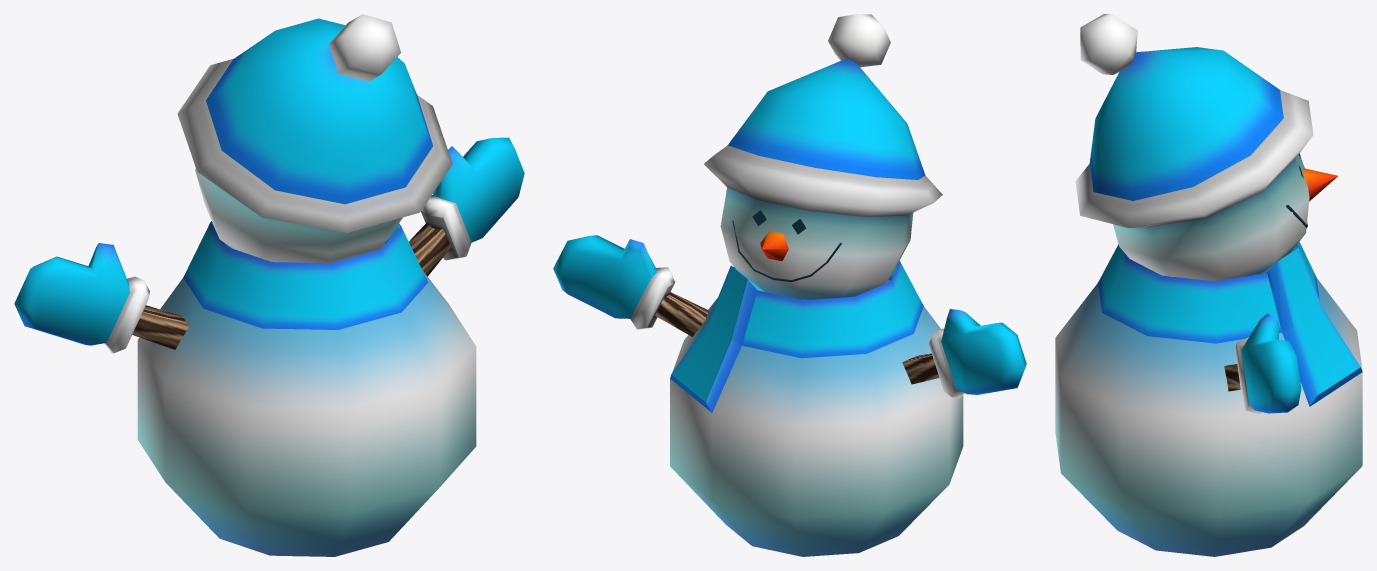
The model's file is Snowman_02.fbx.
3 renders of one model, left to right at view 1: azimuth 30°, elevation 25°; view 2: azimuth 150°, elevation 25°; view 3: azimuth 270°, elevation 25°, orthographic. The views are drawn at different scales.
Visible parts, largest first — view 1: Snowman_02; view 2: Snowman_02; view 3: Snowman_02.
Part boxes in pixels (x1,y1,x2,y2): Snowman_02: (14,14,524,556); Snowman_02: (553,14,1026,556); Snowman_02: (1055,14,1362,556).
Bounding box in the file's own units: 113 × 111 × 61.6.
